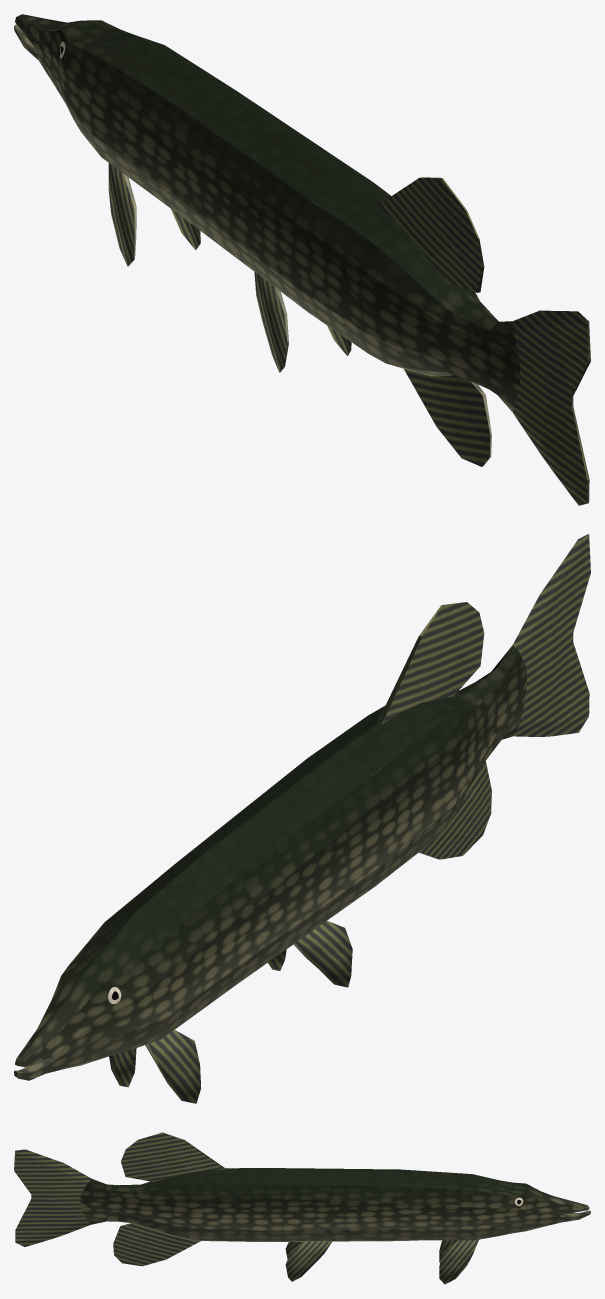
File: szczupak.fbx
The picture shows the model from 3 angles, top to bottom: view 1: azimuth 30°, elevation 25°; view 2: azimuth 150°, elevation 25°; view 3: azimuth 270°, elevation 25°; orthographic projection. The views are drawn at different scales.
Visible parts, largest first — view 1: Cube.001; view 2: Cube.001; view 3: Cube.001.
Boxes of the visible parts, bbox=[...] form: Cube.001: bbox=[14, 14, 590, 505]; Cube.001: bbox=[14, 534, 590, 1103]; Cube.001: bbox=[14, 1132, 590, 1284].
Bounding box in the file's own units: 143 × 447 × 1627.
